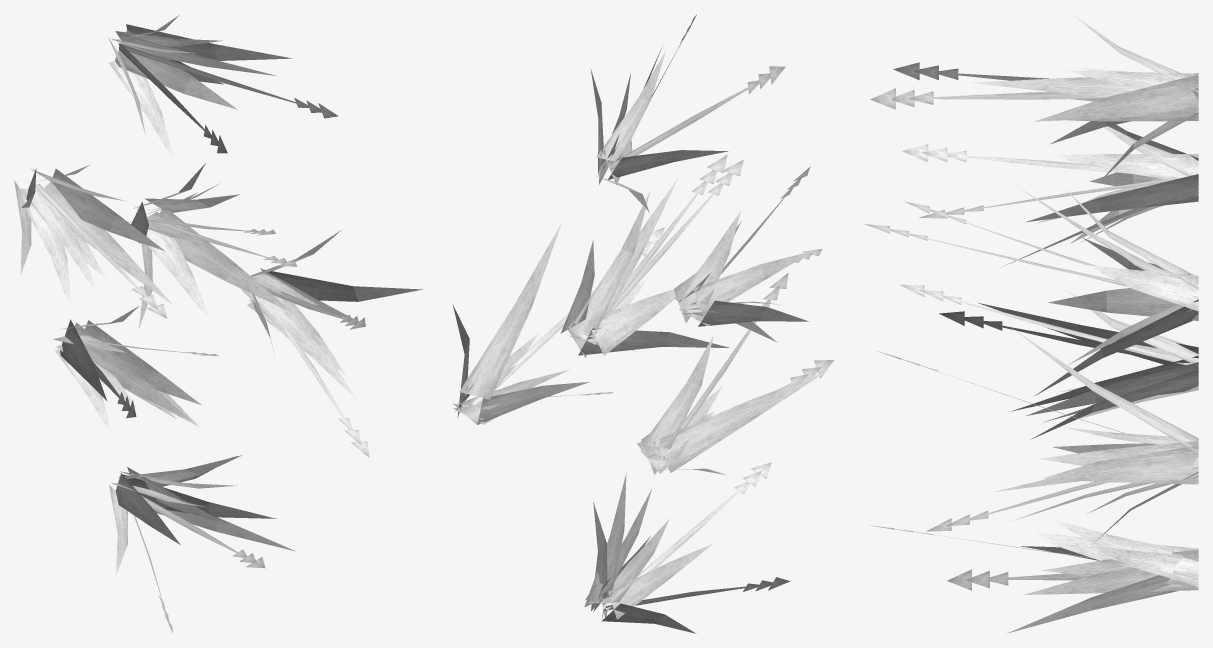
The model's file is SM_Grass_Seed.obj.
The picture shows the model from 3 angles, left to right: view 1: azimuth 30°, elevation 25°; view 2: azimuth 150°, elevation 25°; view 3: azimuth 270°, elevation 25°; orthographic projection. The views are drawn at different scales.
Parts seen in each view (by area): view 1: SM_Grass_Seed; view 2: SM_Grass_Seed; view 3: SM_Grass_Seed.
Boxes of the visible parts, x1,y1,x2,y2 form: SM_Grass_Seed: (14, 15, 423, 633); SM_Grass_Seed: (452, 14, 833, 633); SM_Grass_Seed: (864, 15, 1198, 633).
Bounding box in the file's own units: 122 × 172 × 86.13.
4 materials, 4 textured.
